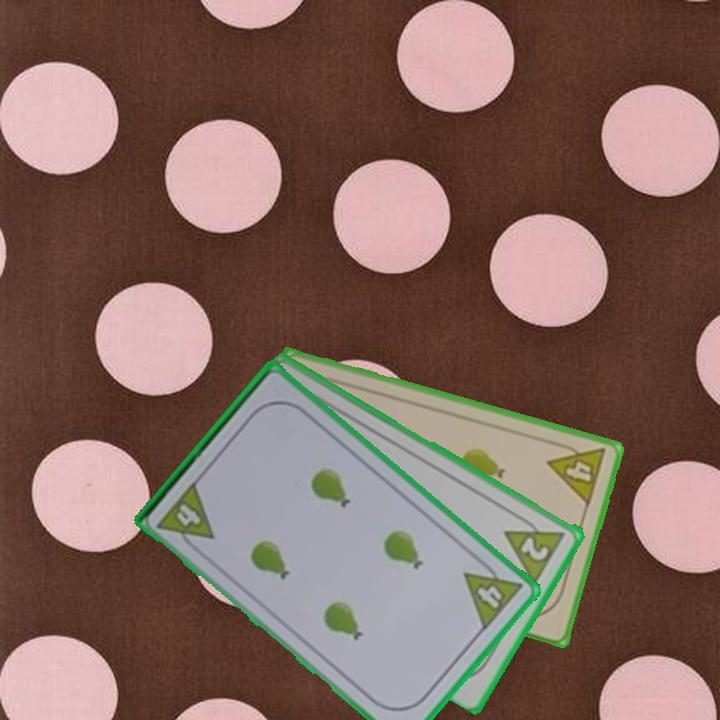2p: (501, 510, 569, 586)
4p: (460, 553, 526, 634), (154, 477, 218, 556), (544, 437, 609, 509)
